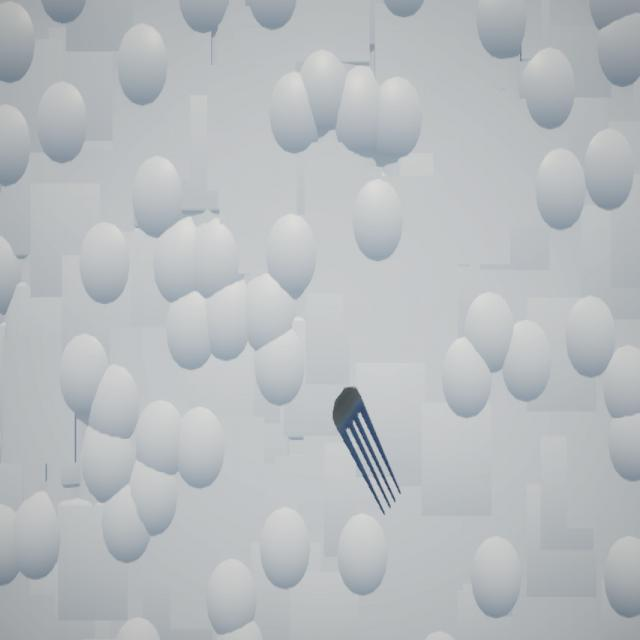top_folk: (334, 387, 403, 517)
